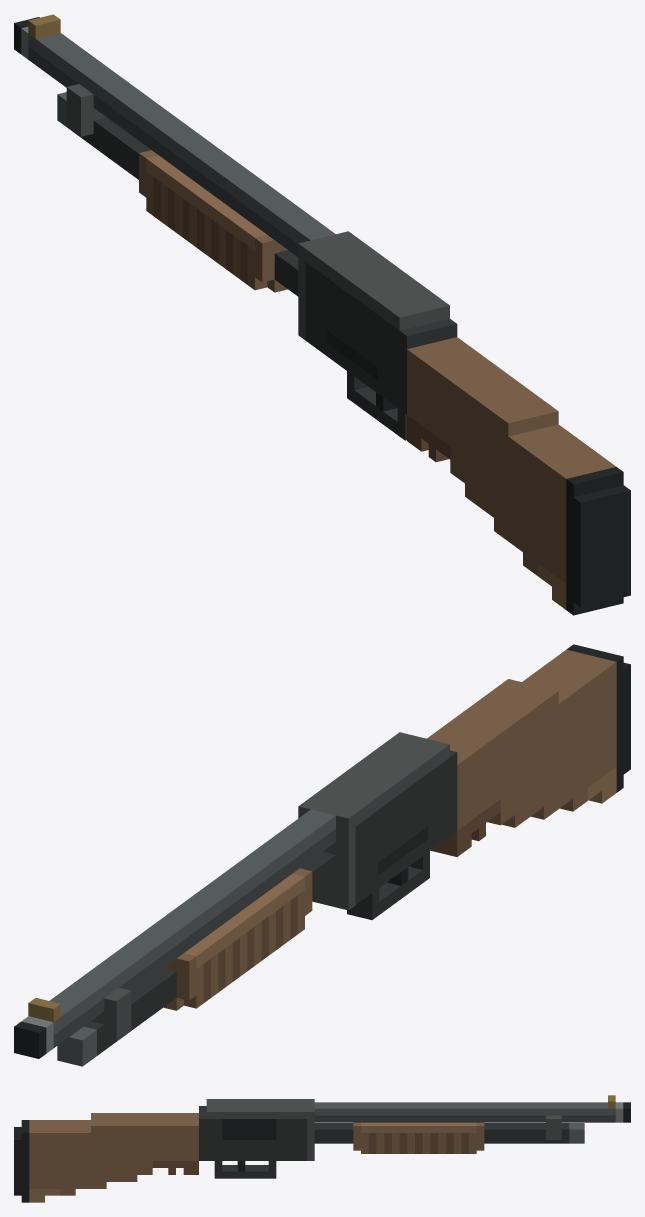
The model's file is Claude_shotgun.glb.
The picture shows the model from 3 angles, top to bottom: view 1: azimuth 30°, elevation 25°; view 2: azimuth 150°, elevation 25°; view 3: azimuth 270°, elevation 25°; orthographic projection. The views are drawn at different scales.
Visible parts, largest first — view 1: Claude_shotgun; view 2: Claude_shotgun; view 3: Claude_shotgun.
Boxes of the visible parts, x1,y1,x2,y2 form: Claude_shotgun: (14,14,630,615); Claude_shotgun: (14,644,630,1066); Claude_shotgun: (14,1095,630,1202).
Bounding box in the file's own units: 0.05 × 0.175 × 1.
